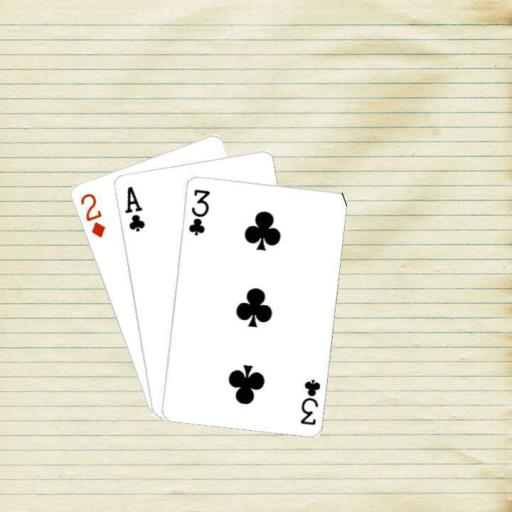card-corner: (76, 190, 106, 239), (185, 186, 211, 236), (297, 375, 322, 426), (121, 182, 146, 232)
